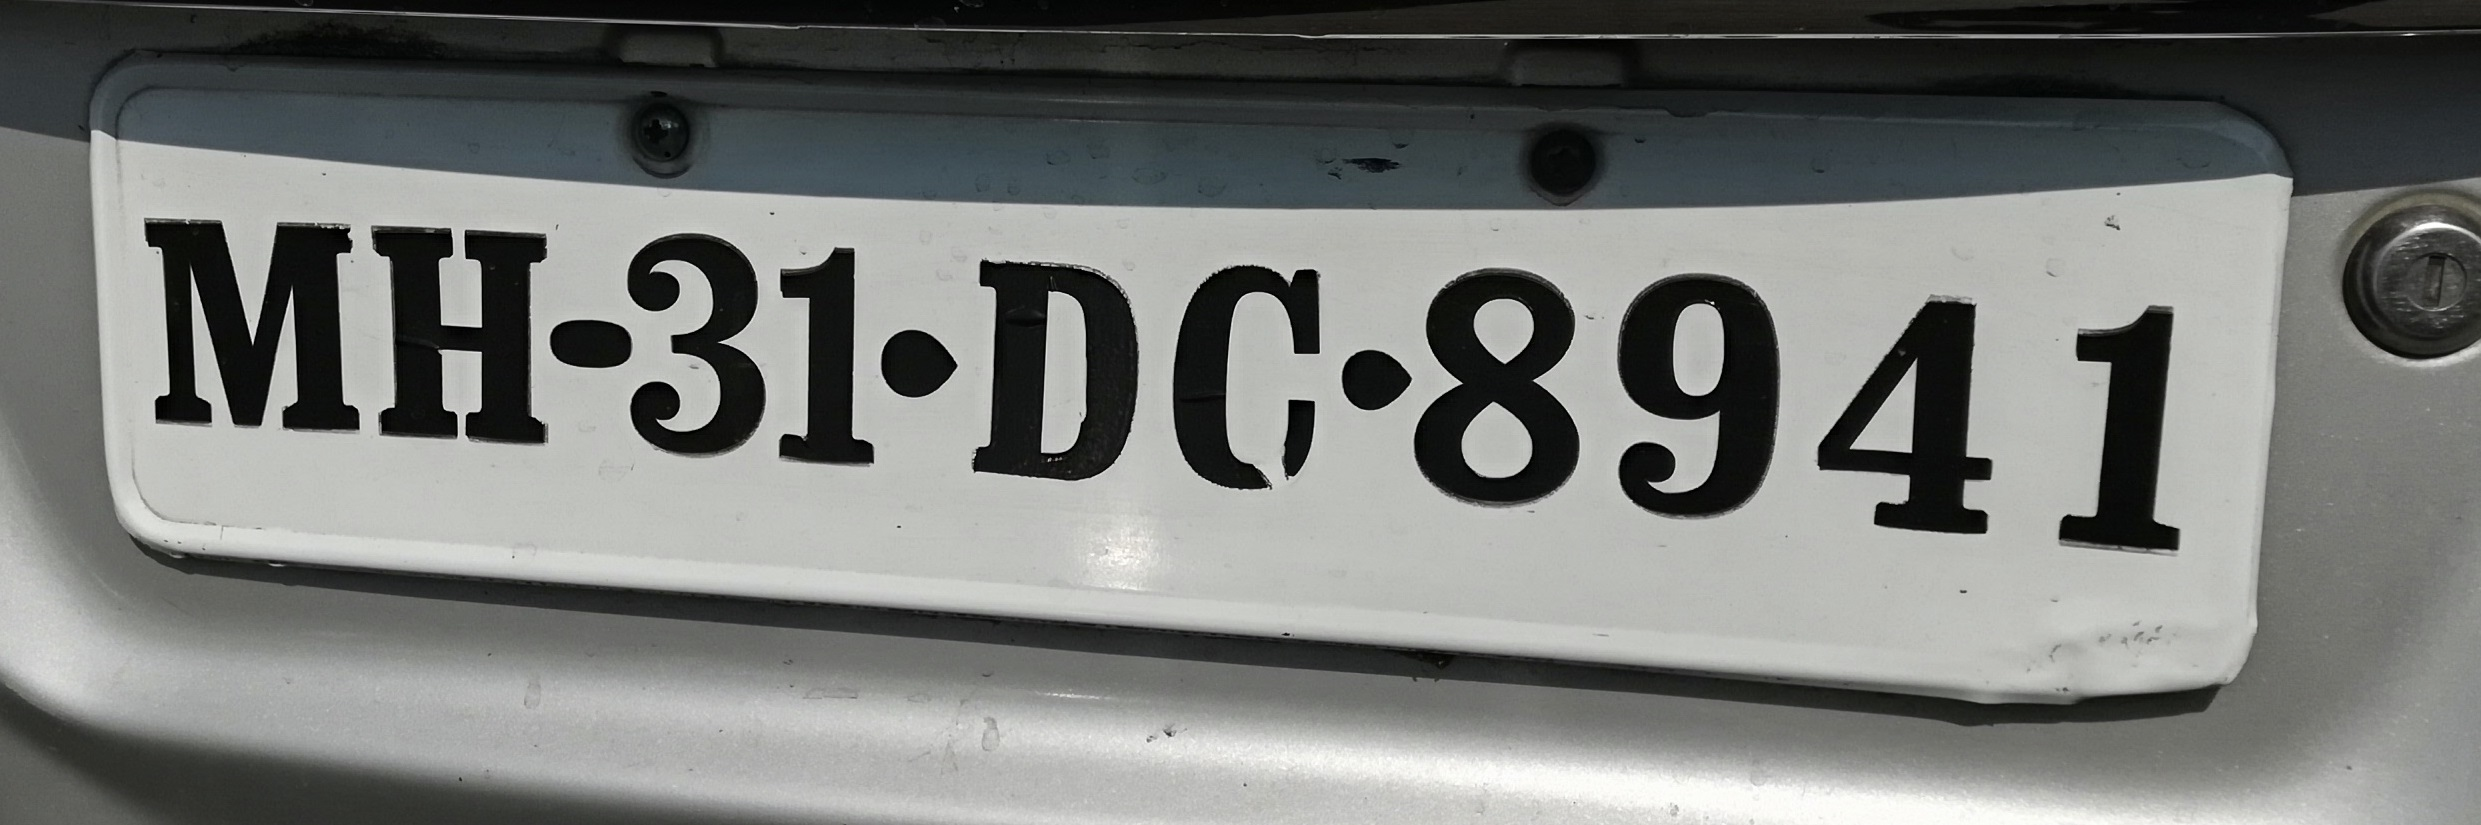numberplate: (72, 48, 2290, 705)
